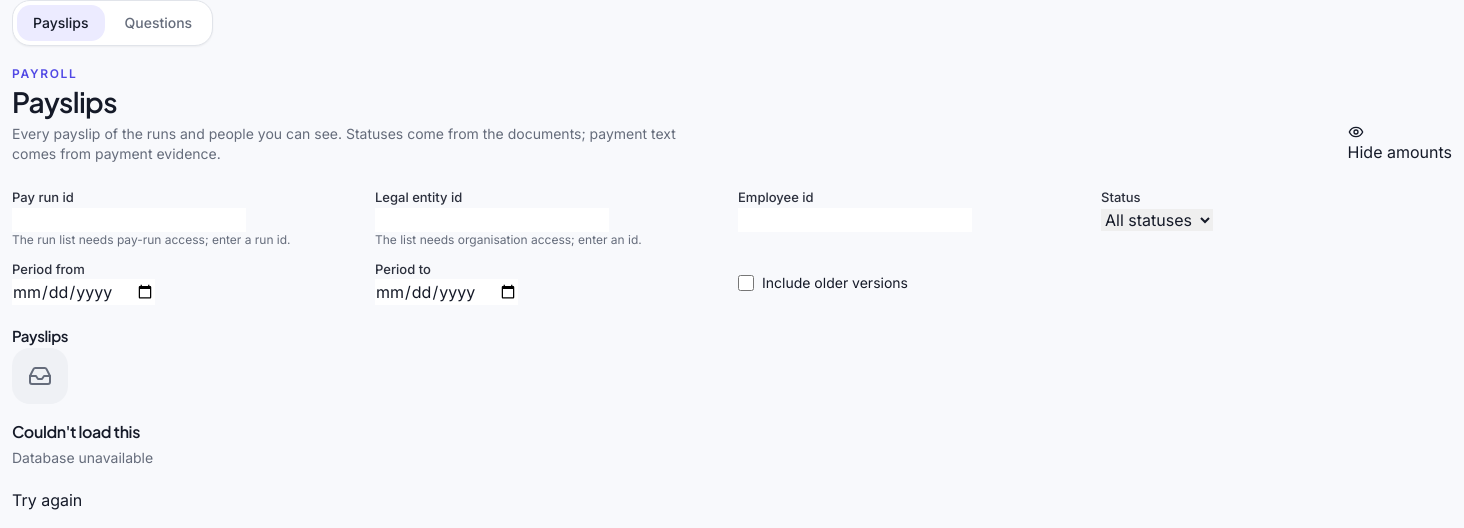
Payslips (HR) › shows an error with retry
Expected: the text "Database unavailable" is shown, left=12, top=448, right=153, bottom=466
Click the button "Try again" at (47, 500), box left=12, top=488, right=82, bottom=512
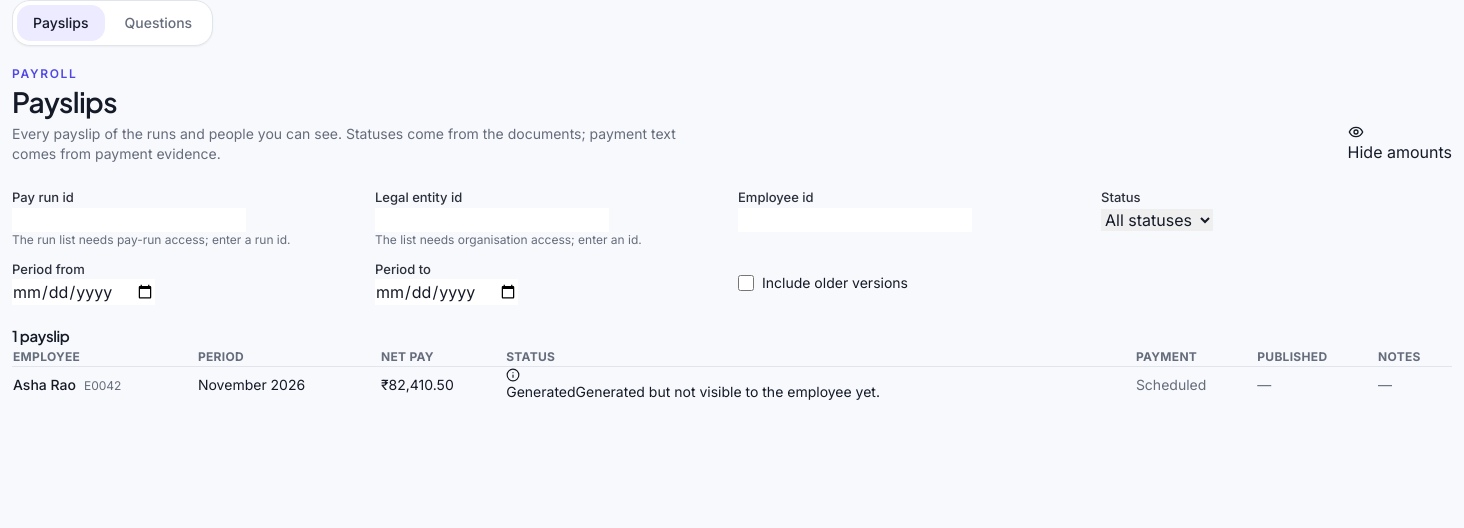
Expected: the text "Asha Rao" is shown, left=13, top=376, right=76, bottom=392
